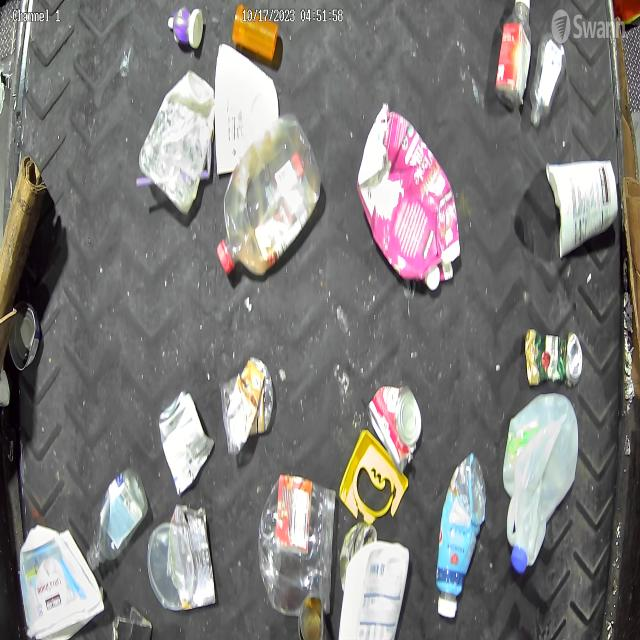can: (166, 504, 216, 611), (369, 384, 423, 474), (524, 328, 584, 388), (8, 298, 41, 372), (298, 597, 326, 640)
milk_jug: (504, 393, 581, 575)
non_white_jug: (356, 100, 462, 292)
plastic_bottle: (219, 114, 322, 275), (526, 35, 565, 128)
